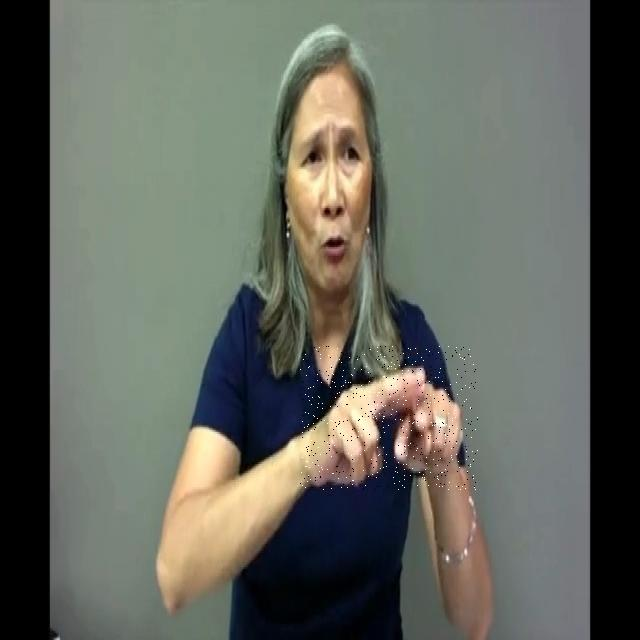salt: (300, 346, 478, 490)
